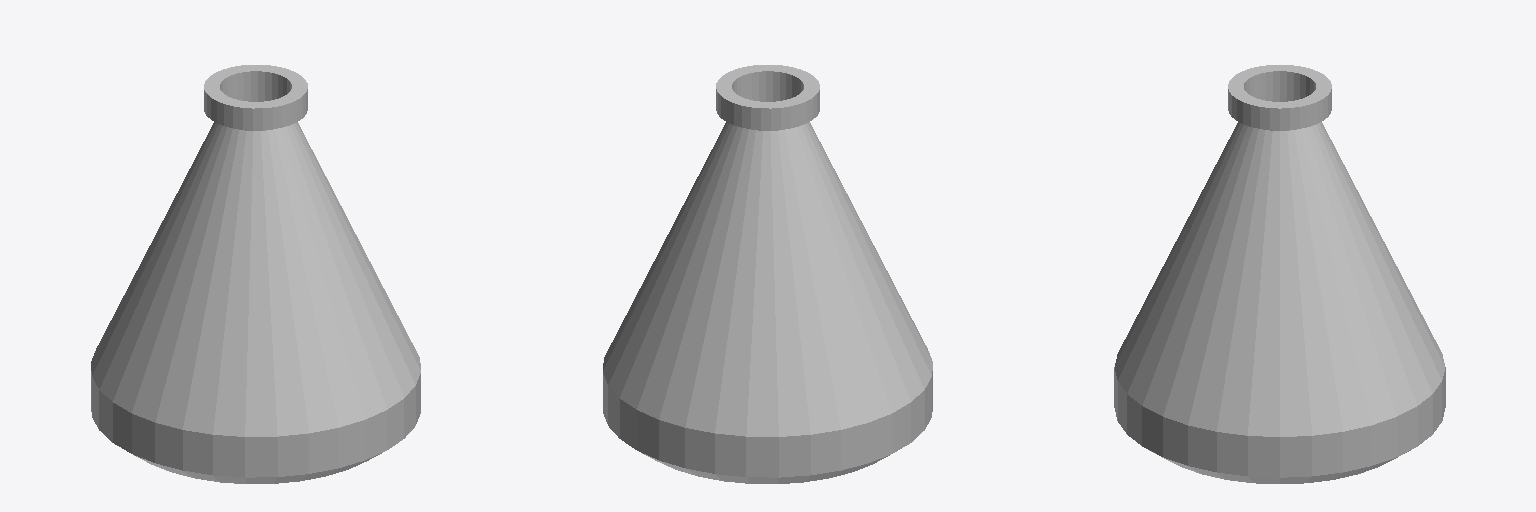
File: beaker.obj
3 renders of one model, left to right at view 1: azimuth 30°, elevation 25°; view 2: azimuth 150°, elevation 25°; view 3: azimuth 270°, elevation 25°, orthographic.
Visible parts, largest first — view 1: Cylinder; view 2: Cylinder; view 3: Cylinder.
Part boxes in pixels (x1,y1,x2,y2): Cylinder: (91, 65, 420, 483); Cylinder: (603, 65, 932, 483); Cylinder: (1114, 65, 1445, 483).
Size of the model in its own units: 3.88 by 4.39 by 3.88.